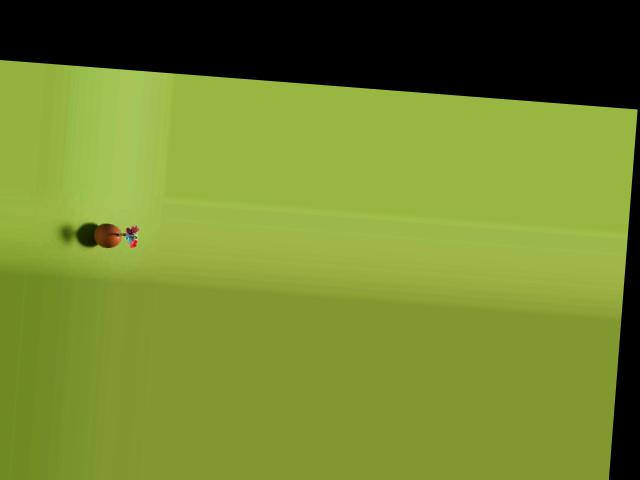egg: (92, 222, 122, 248)
